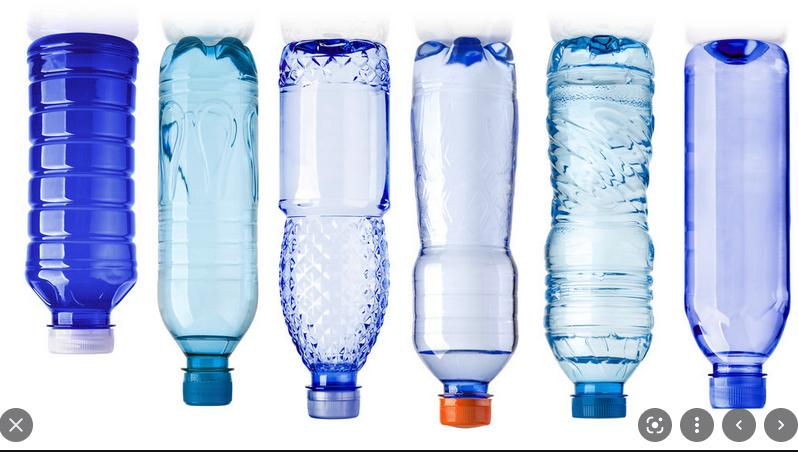Plastic: (404, 29, 524, 430), (274, 31, 395, 423), (543, 29, 656, 426), (681, 31, 793, 414), (151, 29, 260, 414), (19, 26, 139, 359)
